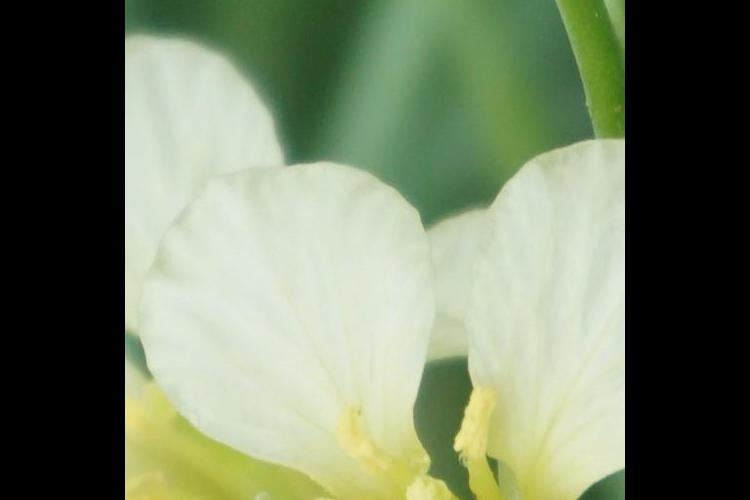white: (160, 162, 619, 500)
